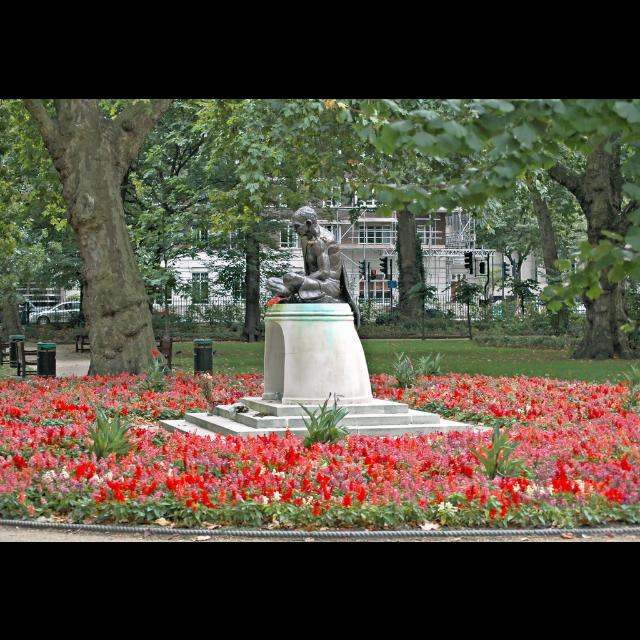Flower: (1, 347, 640, 523), (550, 461, 584, 494), (266, 293, 282, 305)
